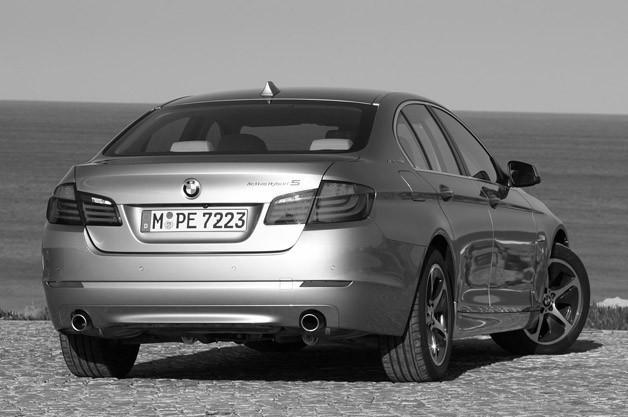car: (37, 82, 594, 380)
